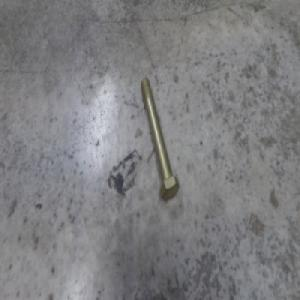Bolt: (139, 76, 179, 199)
